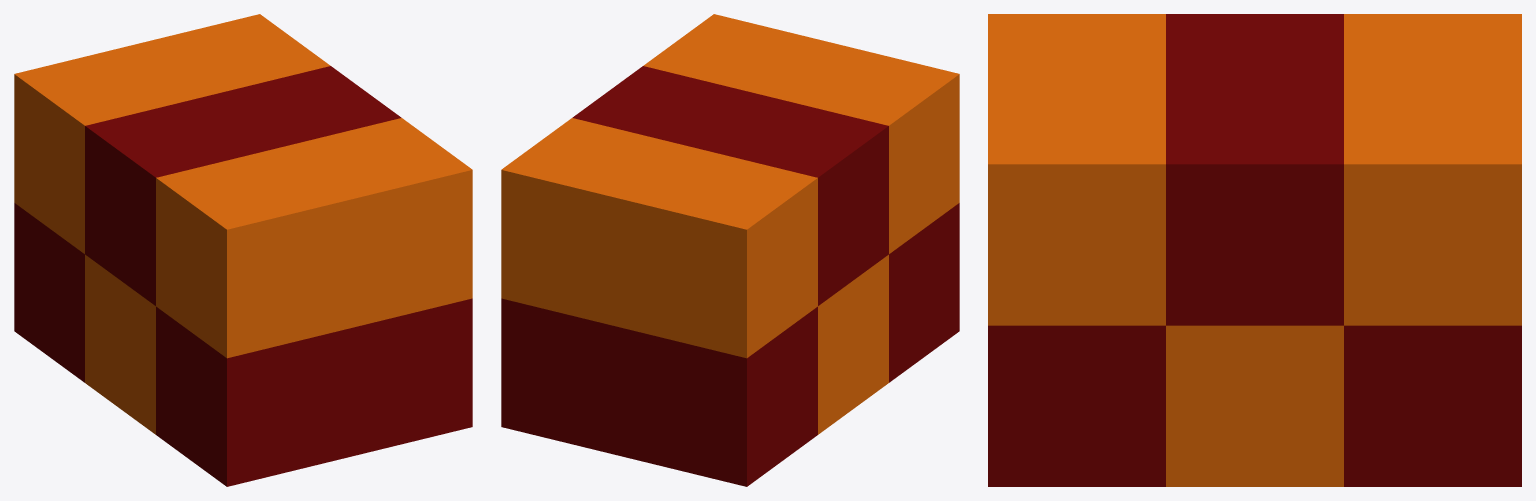
Rendered from pommel1.obj.
3 renders of one model, left to right at view 1: azimuth 30°, elevation 25°; view 2: azimuth 150°, elevation 25°; view 3: azimuth 270°, elevation 25°, orthographic. The views are drawn at different scales.
Bounding box in the file's own units: 0.2 × 0.2 × 0.3.
1 material, 1 textured.
